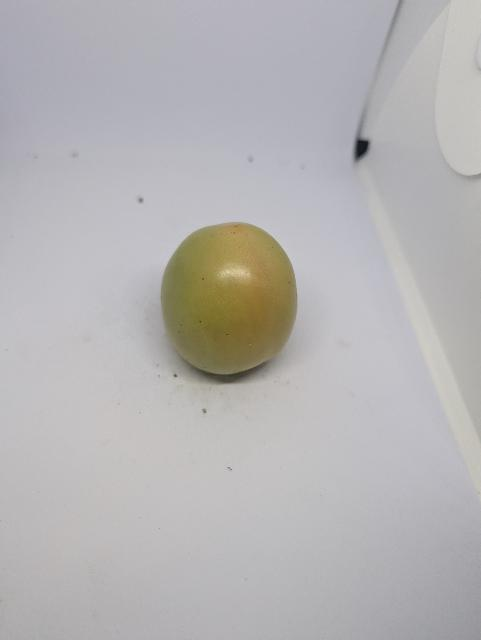breaker: (159, 222, 300, 380)
